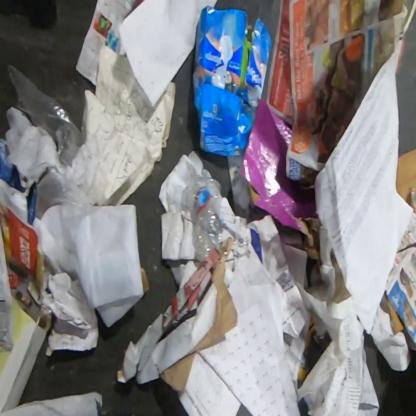cardboard: (116, 249, 239, 395), (239, 95, 323, 261), (192, 4, 273, 157), (385, 148, 415, 351), (226, 236, 233, 254)
rigid_plastic: (181, 174, 230, 262)
soft_plastic: (8, 62, 87, 170), (37, 166, 100, 221)
